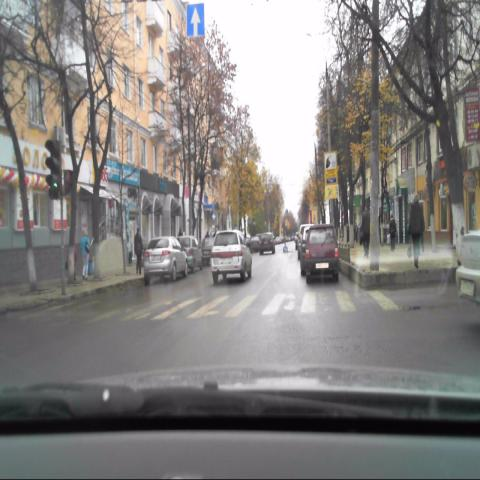5_5: (186, 4, 205, 39)
